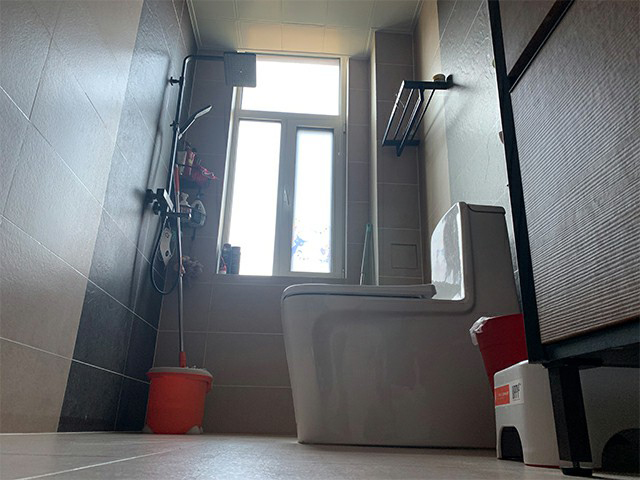cabinet: (490, 1, 640, 474)
closestool: (280, 200, 523, 449)
